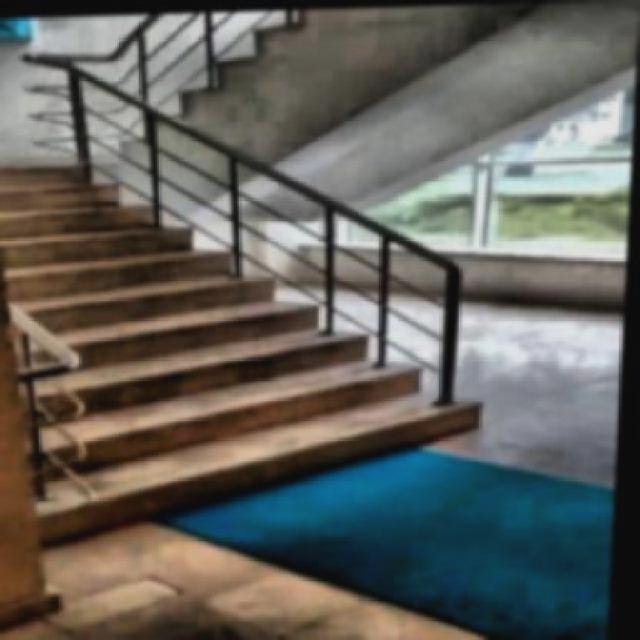stair: (1, 99, 518, 563)
